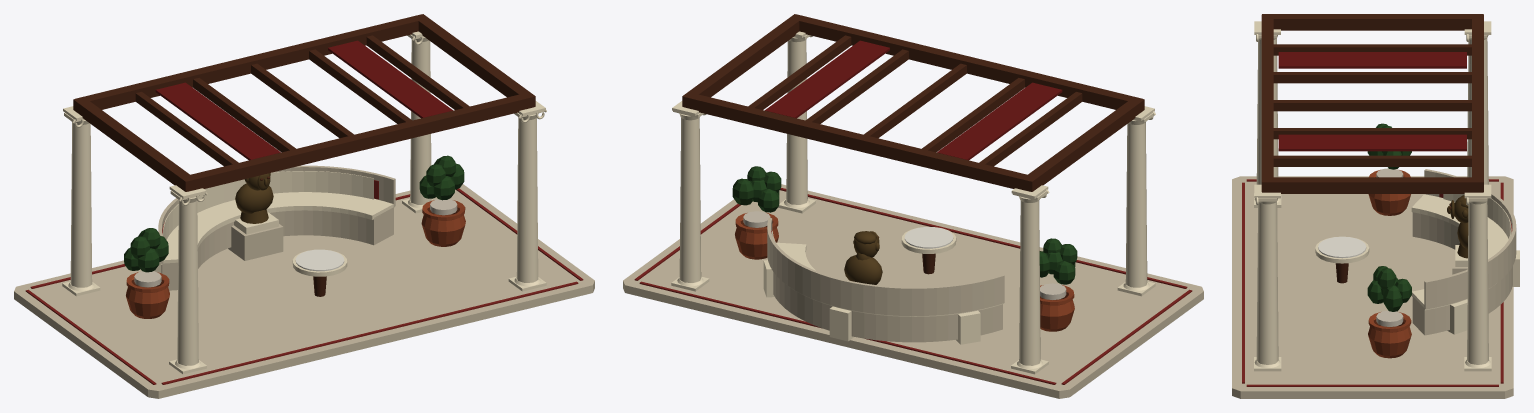
The model's file is rome_garden_exedra.glb.
3 views of the same model, side by side, from view 1: azimuth 30°, elevation 25°; view 2: azimuth 150°, elevation 25°; view 3: azimuth 270°, elevation 25° (orthographic).
Visible parts, largest first — view 1: rome_garden_exedra; view 2: rome_garden_exedra; view 3: rome_garden_exedra.
Part boxes in pixels (left/top/right/bottom): rome_garden_exedra: left=14, top=14, right=594, bottom=398; rome_garden_exedra: left=623, top=14, right=1203, bottom=398; rome_garden_exedra: left=1232, top=14, right=1519, bottom=398.
Size of the model in its own units: 7.16 by 3 by 4.05.
